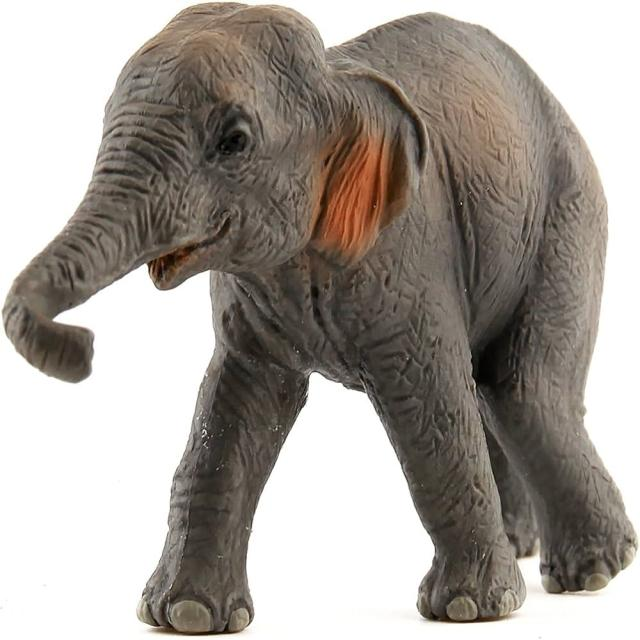Elephant: (3, 4, 640, 637)
